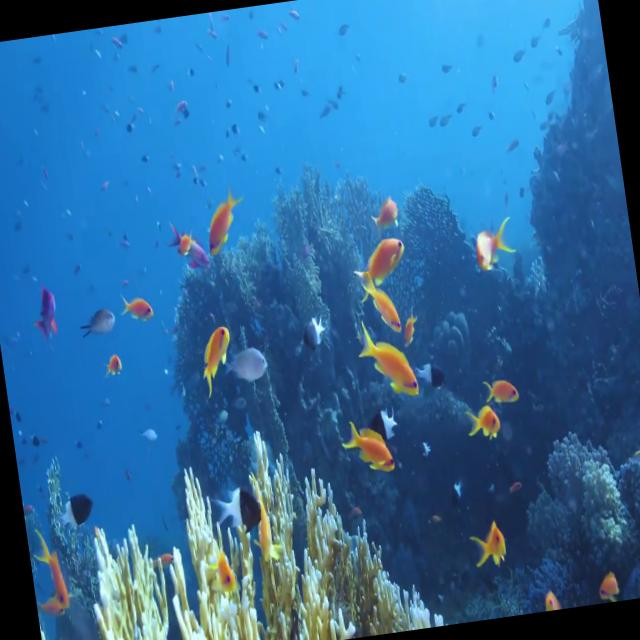fish: (350, 308, 430, 411), (460, 201, 526, 286), (335, 410, 401, 488), (32, 522, 82, 624), (342, 229, 413, 298), (206, 476, 270, 546), (198, 182, 250, 263), (194, 314, 238, 402), (467, 511, 518, 584), (358, 260, 402, 344), (220, 335, 274, 393), (52, 478, 98, 540), (461, 390, 506, 452), (297, 296, 336, 361), (476, 356, 522, 411), (26, 278, 62, 344), (365, 186, 405, 236), (584, 554, 624, 602), (120, 278, 158, 327), (362, 403, 404, 444), (74, 302, 119, 339), (414, 351, 451, 394), (536, 575, 566, 612), (104, 352, 130, 386)
